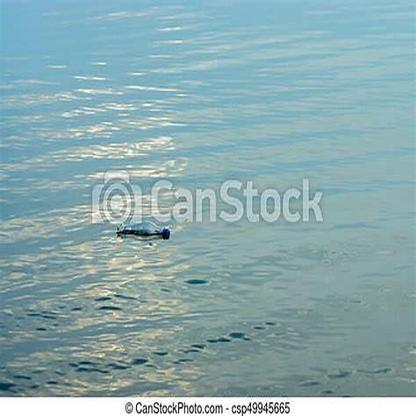plastic bottle: (117, 221, 169, 240)
